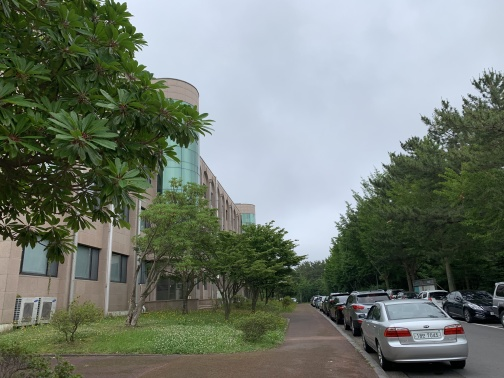Natural Science2: (134, 71, 266, 236)
